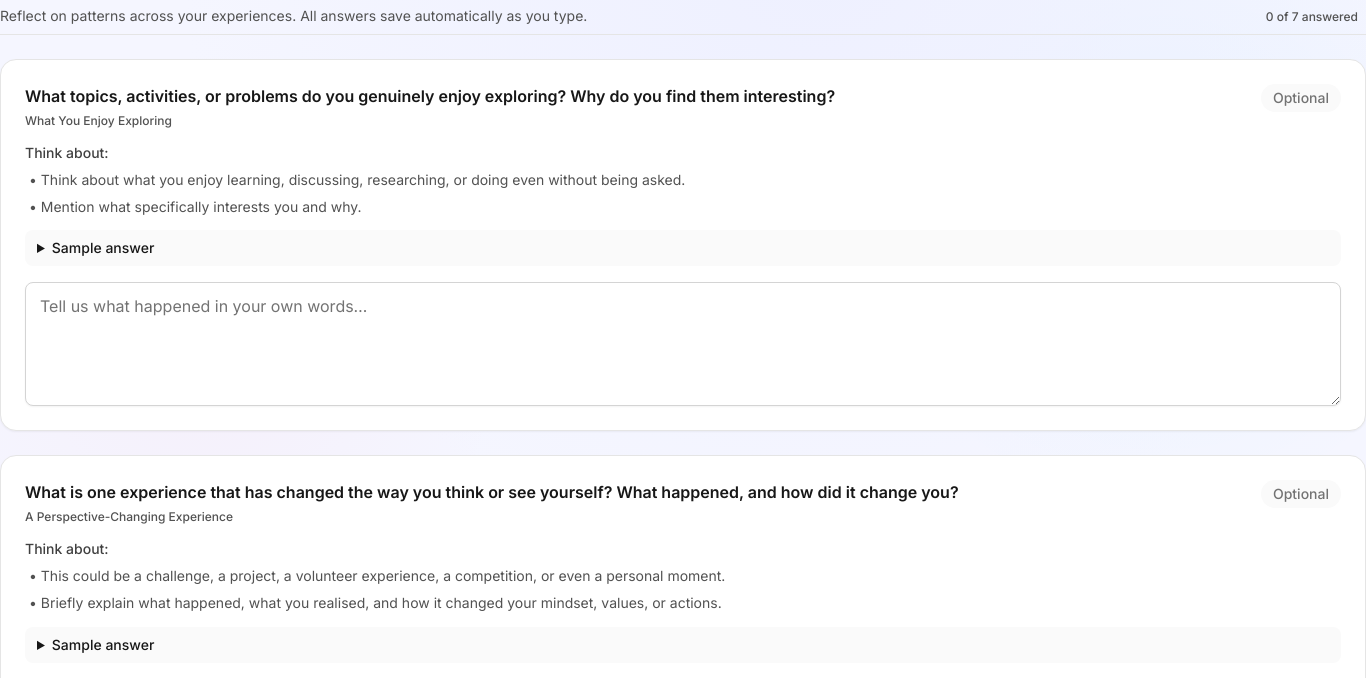
PersonalReflectionForm › keeps local text and displays retry button when save fails
The image size is (1366, 678).
Type "My precious answer" into the text box with placeholder "Tell us what happened in your own words…" below "What You Enjoy Exploring".
click(683, 344); type("My precious answer")  # box [25, 282, 1341, 406]
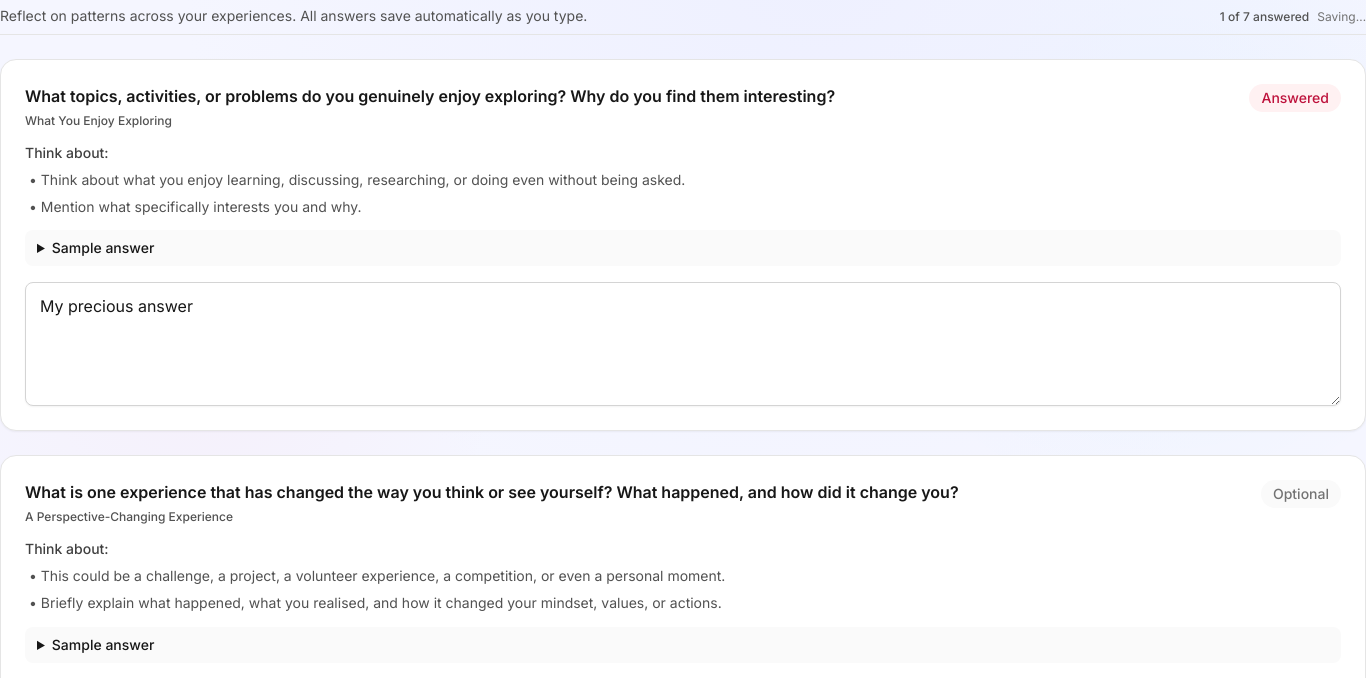
Leave the 1st text box, box [25, 282, 1341, 406]
(page scrolled)
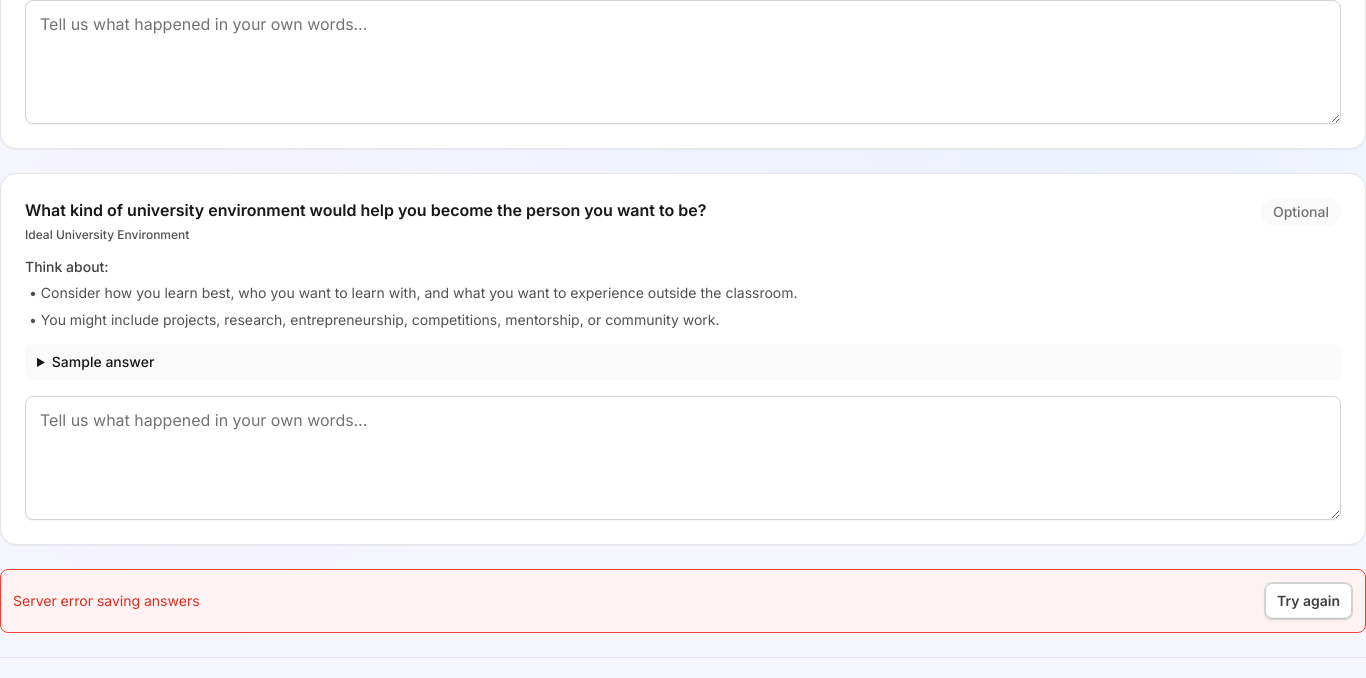
Expected: the text "Server error saving answers" is shown, [13, 591, 200, 611]
Expected: the button "Try again" is shown
Click the button "Try again".
click(1308, 601)  # box [1264, 582, 1353, 620]
(page scrolled)
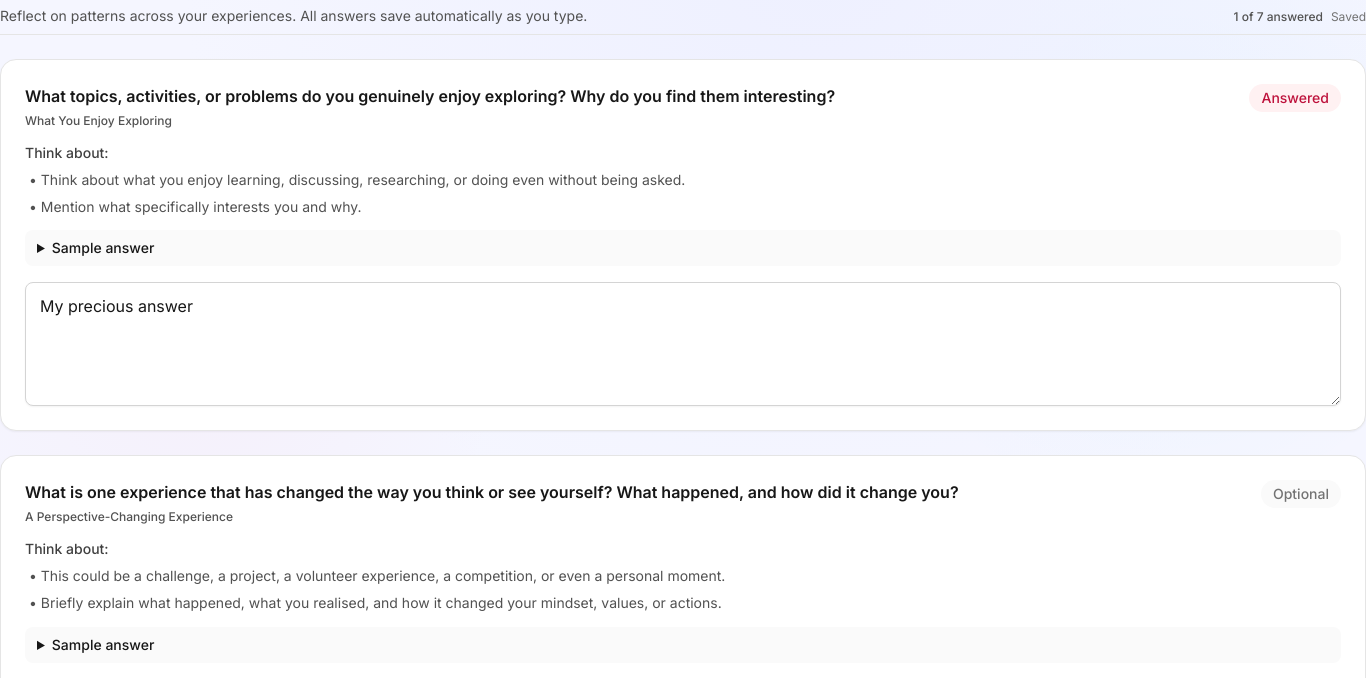
Expected: the text "Saved" is shown, [1331, 8, 1365, 26]
